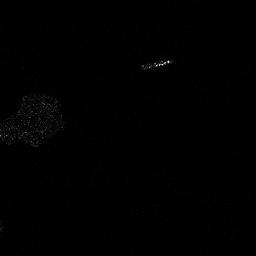ship: (140, 56, 172, 71)
